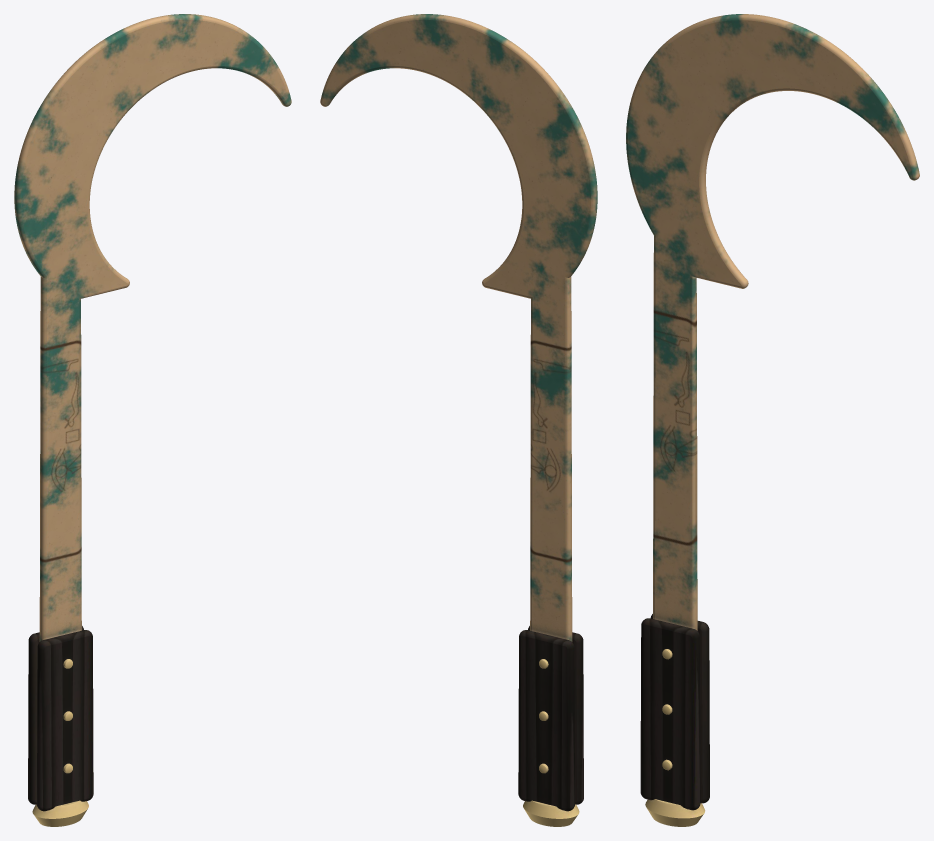
File: khopesh.glb
3 views of the same model, side by side, from view 1: azimuth 30°, elevation 25°; view 2: azimuth 150°, elevation 25°; view 3: azimuth 330°, elevation 25° (orthographic). The views are drawn at different scales.
Visible parts, largest first — view 1: khopesh; view 2: khopesh; view 3: khopesh.
Part boxes in pixels (<box>): khopesh: <box>14,14,291,826</box>; khopesh: <box>320,14,597,826</box>; khopesh: <box>626,14,919,826</box>.
Size of the model in its own units: 0.2202 by 0.5944 by 0.0294.
Materials: 1 (1 with a texture image).
